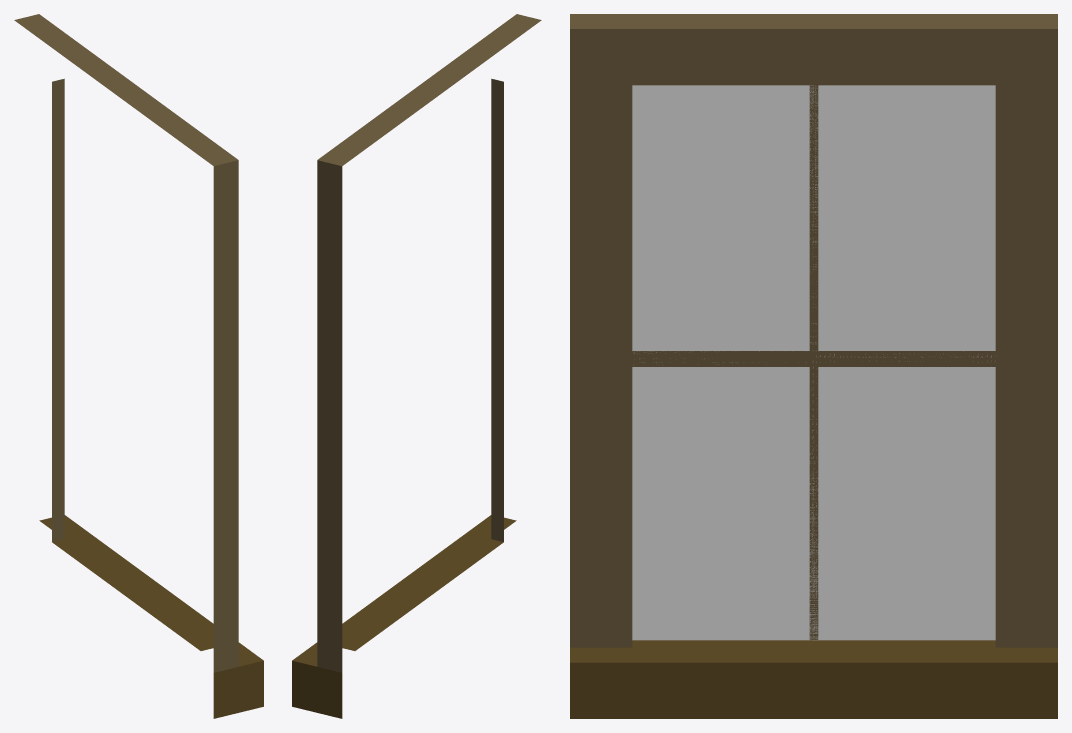
3 views of the same model, side by side, from view 1: azimuth 30°, elevation 25°; view 2: azimuth 150°, elevation 25°; view 3: azimuth 270°, elevation 25° (orthographic). The views are drawn at different scales.
Bounding box in the file's own units: 8 × 84 × 55.
Materials: 1 (1 with a texture image).
